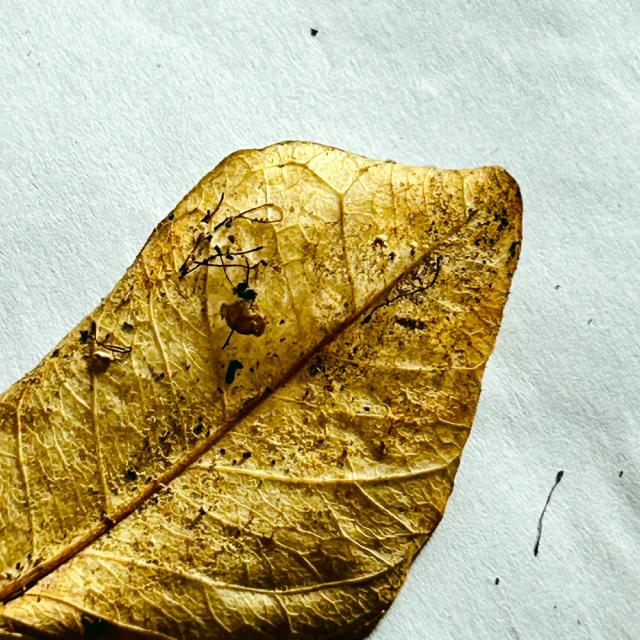DryLeaf_Lemon: (0, 141, 522, 639)
